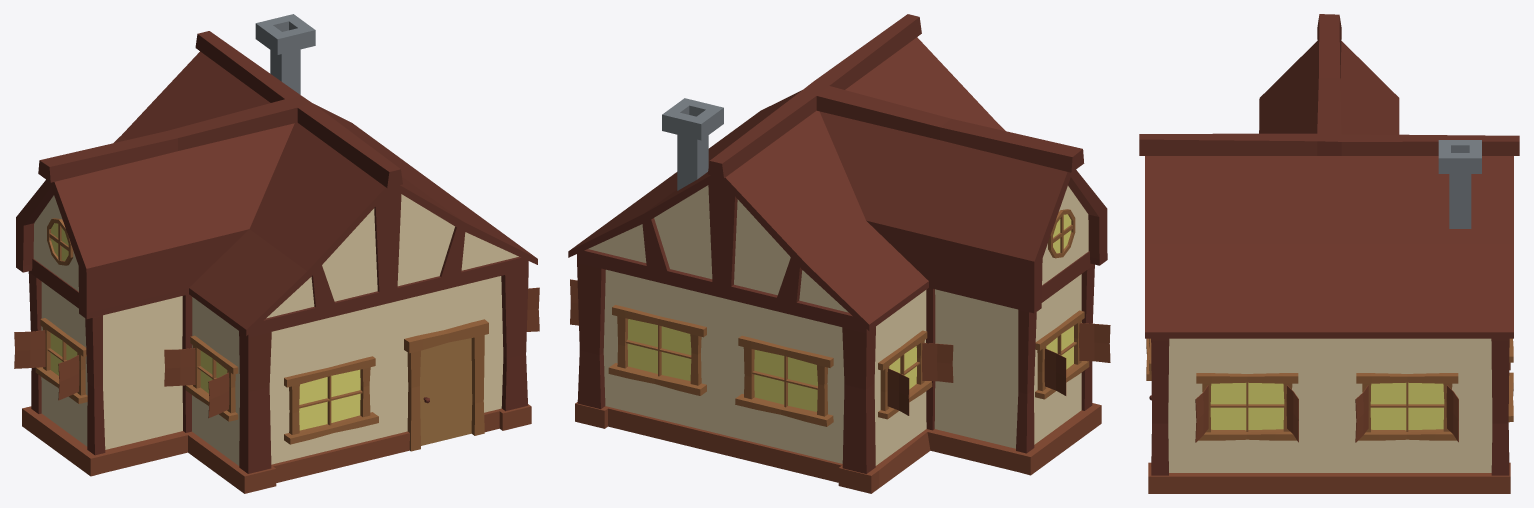
The model's file is House_05.fbx.
3 renders of one model, left to right at view 1: azimuth 30°, elevation 25°; view 2: azimuth 150°, elevation 25°; view 3: azimuth 270°, elevation 25°, orthographic. The views are drawn at different scales.
Visible parts, largest first — view 1: House_04; view 2: House_04; view 3: House_04.
Part boxes in pixels (x1,y1,x2,y2): House_04: (14,14,539,493); House_04: (568,14,1110,493); House_04: (1139,14,1519,493).
Size of the model in its own units: 953 by 633 by 723.
